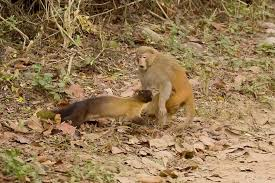monkey: (117, 20, 209, 140), (50, 73, 162, 130)
